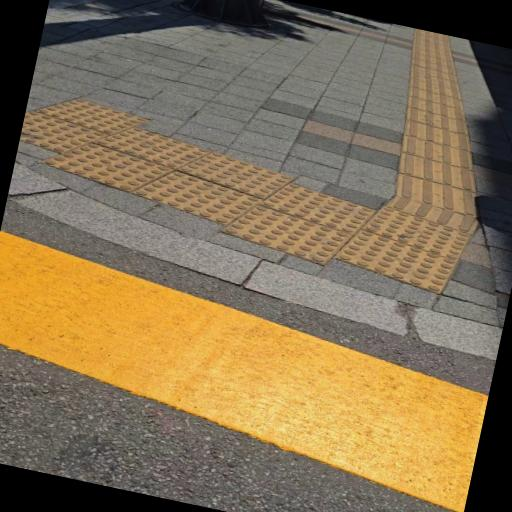yellow-crosswalk: (0, 219, 503, 512)
